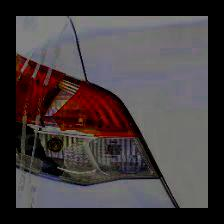tail_lamp: (19, 45, 125, 193)
